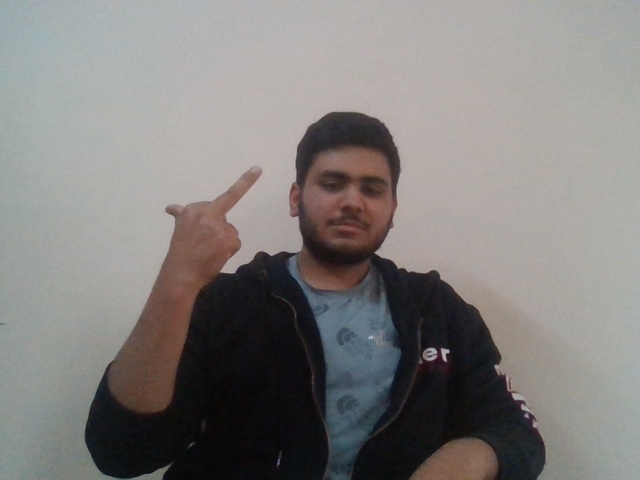Hello: (162, 161, 267, 259)
